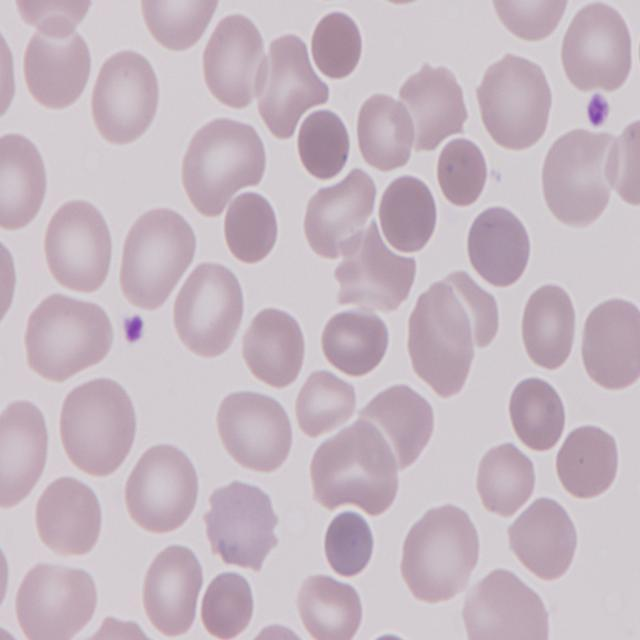Platelets: (584, 91, 616, 130)
RBC: (396, 501, 484, 606), (180, 116, 270, 215), (24, 289, 116, 383), (115, 206, 197, 311), (54, 377, 138, 478), (538, 130, 618, 230), (170, 261, 250, 360), (474, 53, 552, 153), (122, 439, 200, 539), (559, 0, 638, 98), (90, 49, 164, 150), (404, 298, 478, 399), (40, 198, 116, 296), (298, 170, 378, 262), (204, 478, 278, 574), (22, 22, 98, 111), (216, 390, 296, 474), (14, 561, 99, 640), (509, 493, 582, 583), (138, 540, 206, 634), (202, 15, 266, 113), (33, 473, 105, 559), (398, 64, 468, 151), (466, 204, 534, 291), (578, 298, 640, 392), (0, 398, 52, 510), (242, 306, 310, 391), (554, 420, 622, 502), (518, 282, 580, 370), (354, 91, 418, 176), (319, 308, 394, 377), (475, 440, 539, 520), (0, 131, 48, 235), (294, 369, 358, 442), (508, 374, 568, 451), (137, 0, 220, 50), (200, 569, 258, 640), (298, 572, 361, 636), (487, 1, 572, 45), (10, 0, 99, 35), (611, 120, 640, 214), (1, 23, 23, 129)
Spherocyte: (374, 169, 438, 253), (295, 102, 356, 183), (222, 188, 283, 266), (432, 137, 489, 211), (322, 507, 379, 580), (309, 10, 364, 80)
